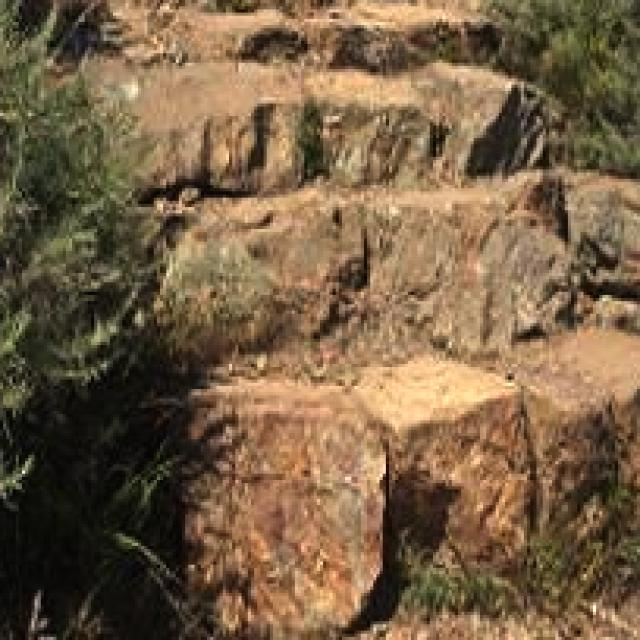upstair: (89, 64, 640, 556)
